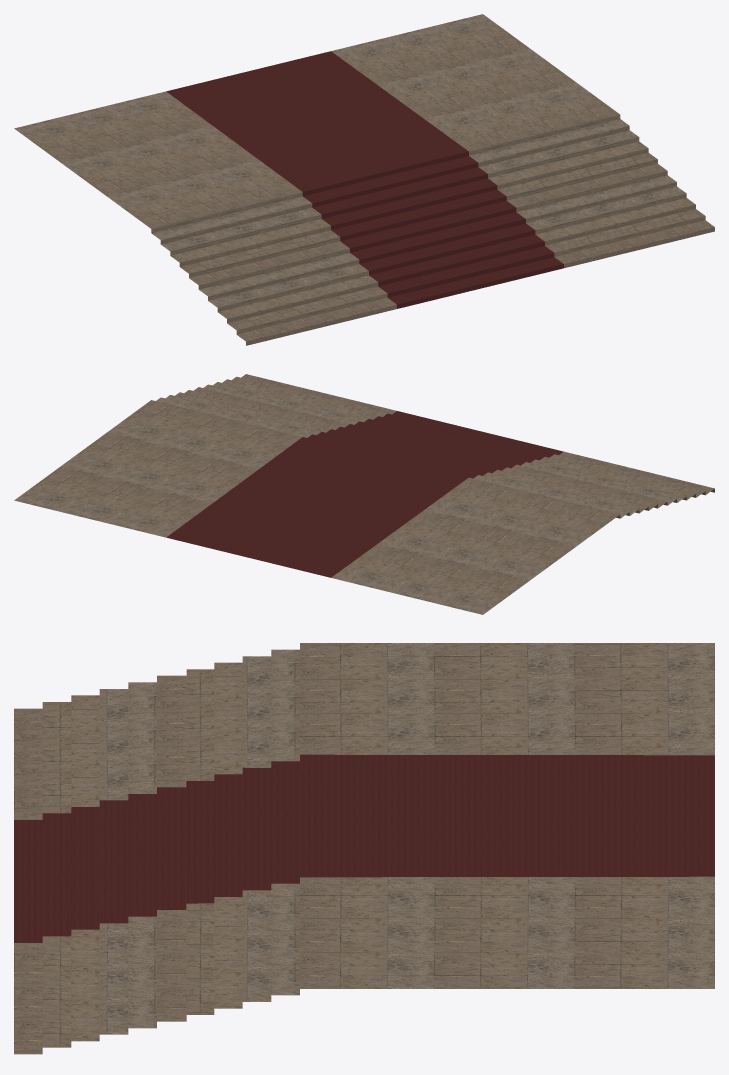
File: Royal_Hall_Ext_Stairs.FBX
3 renders of one model, top to bottom at view 1: azimuth 30°, elevation 25°; view 2: azimuth 150°, elevation 25°; view 3: azimuth 270°, elevation 25°, orthographic. The views are drawn at different scales.
Parts seen in each view (by area): view 1: Royal_Hall_Ext_Stairs; view 2: Royal_Hall_Ext_Stairs; view 3: Royal_Hall_Ext_Stairs.
Part boxes in pixels (x1,y1,x2,y2): Royal_Hall_Ext_Stairs: [14, 14, 714, 345]; Royal_Hall_Ext_Stairs: [14, 374, 714, 614]; Royal_Hall_Ext_Stairs: [14, 643, 714, 1054].
Bounding box in the file's own units: 30.58 × 2.97 × 26.2.
